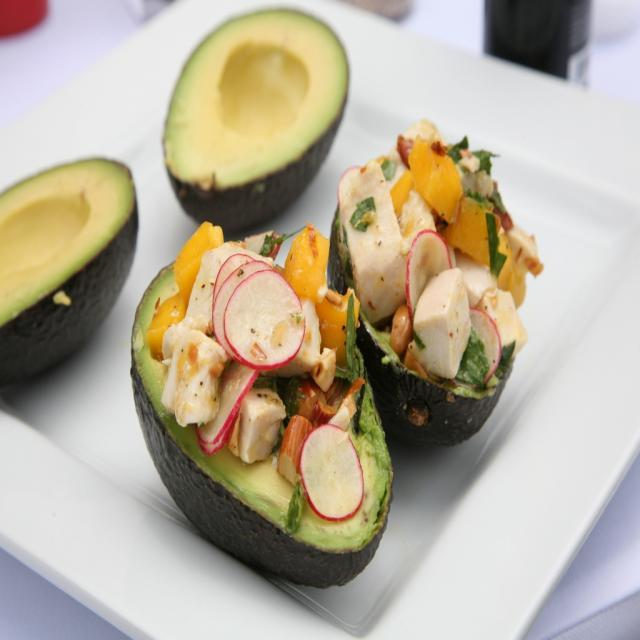Zucchini: (144, 13, 350, 235)
